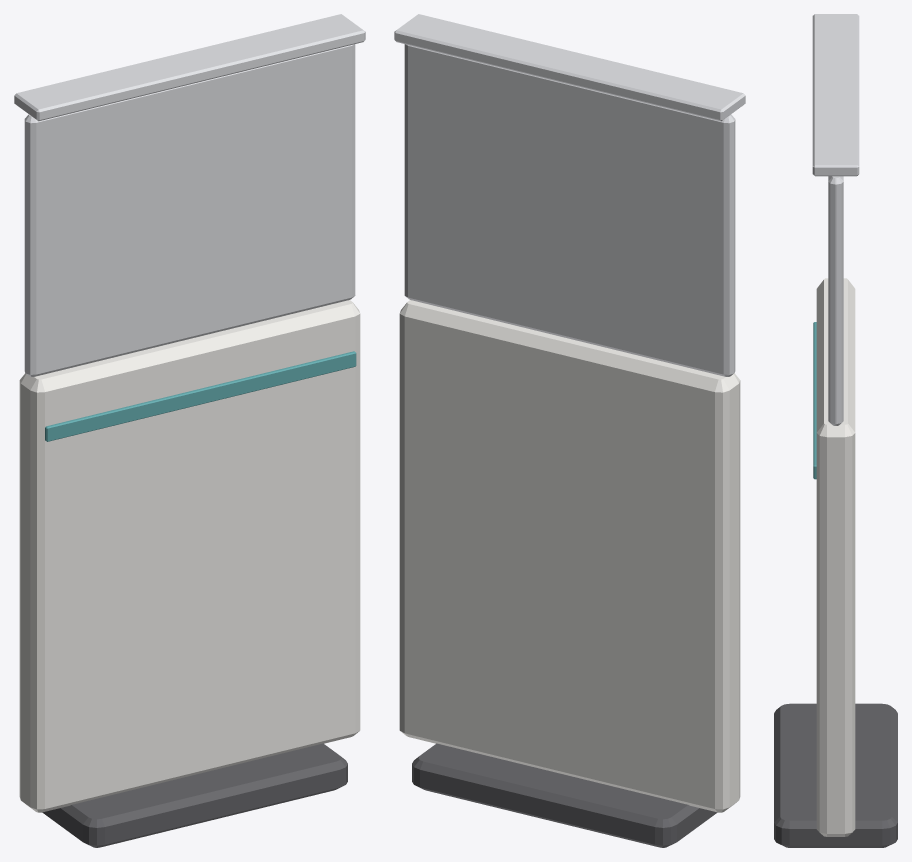
Rendered from fast-food-and-drive-thru-booth-divider-screen-c79c858a__16191.glb.
3 views of the same model, side by side, from view 1: azimuth 30°, elevation 25°; view 2: azimuth 150°, elevation 25°; view 3: azimuth 270°, elevation 25° (orthographic). The views are drawn at different scales.
Parts seen in each view (by area): view 1: booth-divider-screen; view 2: booth-divider-screen; view 3: booth-divider-screen.
Boxes of the visible parts, x1,y1,x2,y2 form: booth-divider-screen: (14, 14, 365, 847); booth-divider-screen: (394, 14, 745, 847); booth-divider-screen: (774, 14, 897, 847).
Size of the model in its own units: 0.7001 by 1.5 by 0.24.
